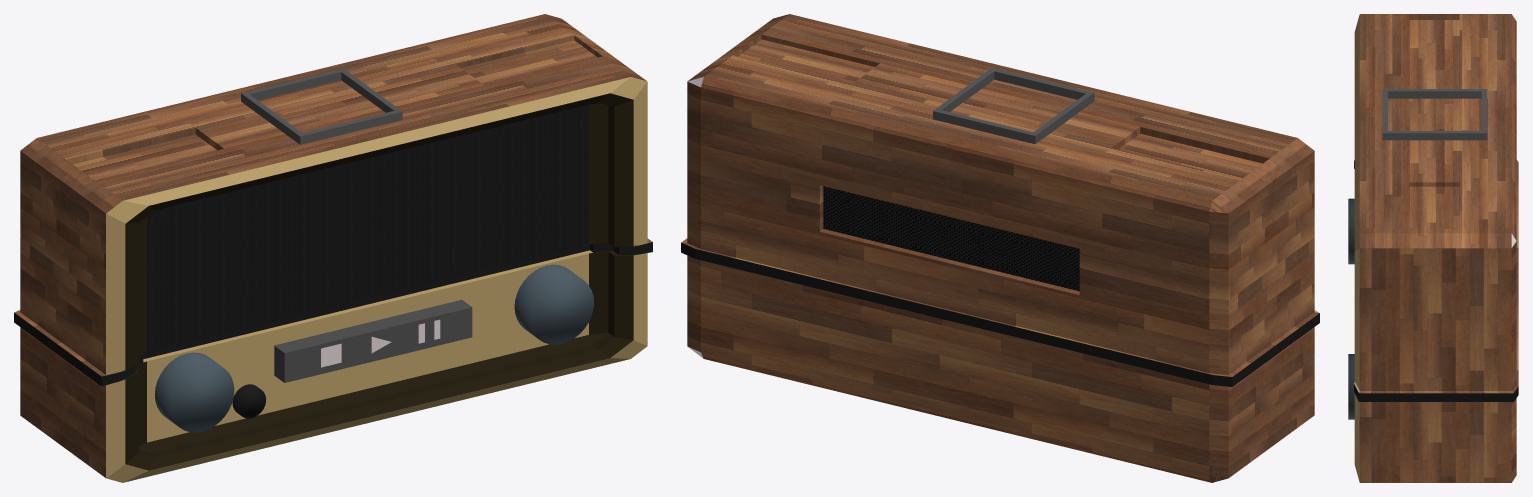
3 renders of one model, left to right at view 1: azimuth 30°, elevation 25°; view 2: azimuth 150°, elevation 25°; view 3: azimuth 270°, elevation 25°, orthographic. The views are drawn at different scales.
Parts seen in each view (by area): view 1: Cube, Cube.001, Cylinder.001, Cylinder, Cube.002, Cylinder.002; view 2: Cube, Cube.002; view 3: Cube, Cube.002, Cylinder.001, Cylinder.
Part boxes in pixels (<box>): Cube: <box>14,14,652,482</box>; Cube.001: <box>274,299,472,382</box>; Cylinder.001: <box>154,352,234,432</box>; Cylinder: <box>514,264,593,344</box>; Cube.002: <box>241,68,402,144</box>; Cylinder.002: <box>232,384,265,418</box>; Cube: <box>681,14,1319,482</box>; Cube.002: <box>933,68,1094,144</box>; Cube: <box>1354,14,1518,482</box>; Cube.002: <box>1382,89,1487,140</box>; Cylinder.001: <box>1348,198,1354,264</box>; Cylinder: <box>1348,354,1354,419</box>.
Size of what is drawn, in the model's own units: 409 by 206 by 124.
Materials: 10 (2 with a texture image).
